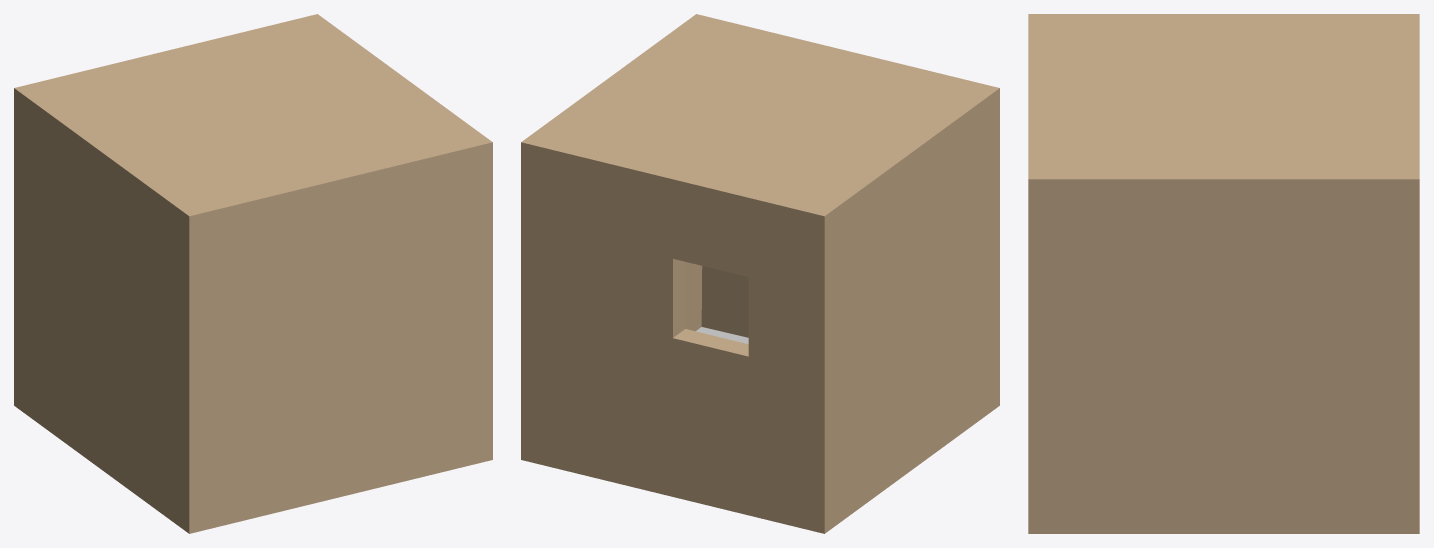
3 views of the same model, side by side, from view 1: azimuth 30°, elevation 25°; view 2: azimuth 150°, elevation 25°; view 3: azimuth 270°, elevation 25° (orthographic). The views are drawn at different scales.
Visible parts, largest first — view 1: Cube; view 2: Cube; view 3: Cube.
Part boxes in pixels (x1,y1,x2,y2): Cube: (14,14,492,533); Cube: (521,14,999,533); Cube: (1028,14,1419,533).
Size of the model in its own units: 400 by 400 by 400.
